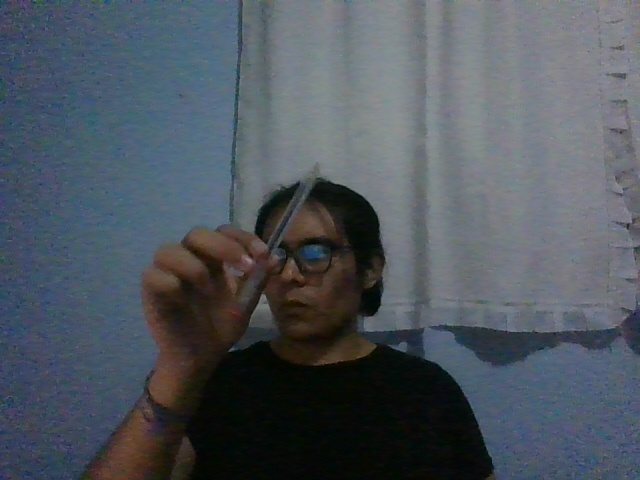pluma: (228, 161, 320, 319)
